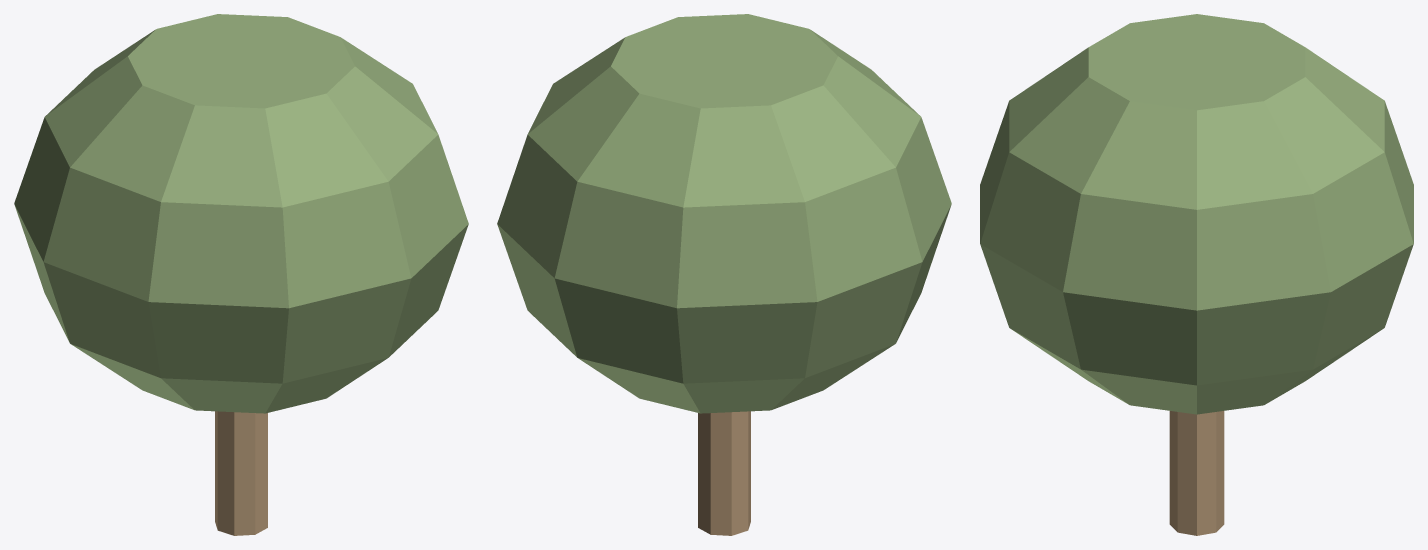
File: oak-arch-0.glb
3 views of the same model, side by side, from view 1: azimuth 30°, elevation 25°; view 2: azimuth 150°, elevation 25°; view 3: azimuth 270°, elevation 25° (orthographic).
Visible parts, largest first — view 1: living roof, timber; view 2: living roof, timber; view 3: living roof, timber.
Boxes of the visible parts, left/top/right/bottom form: living roof: left=14, top=14, right=468, bottom=413; timber: left=215, top=411, right=267, bottom=535; living roof: left=497, top=14, right=951, bottom=413; timber: left=698, top=411, right=750, bottom=535; living roof: left=980, top=14, right=1413, bottom=414; timber: left=1169, top=411, right=1224, bottom=535.
Size of the model in its own units: 4.05 by 4.76 by 3.85.
